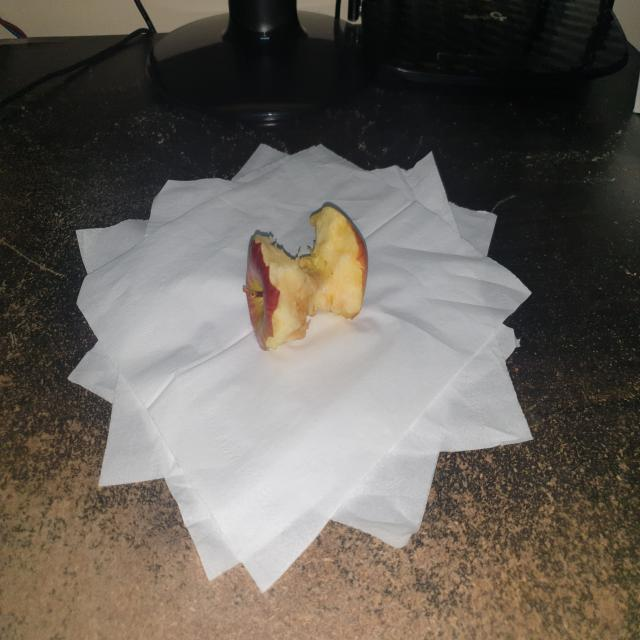apple: (235, 191, 372, 355)
